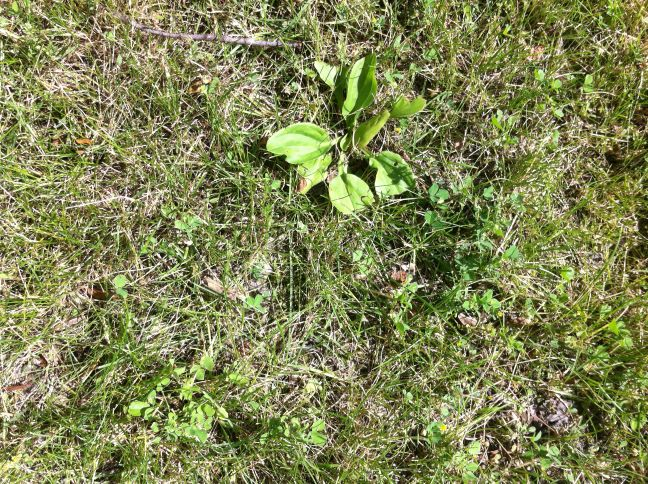weed1: (260, 54, 426, 216)
